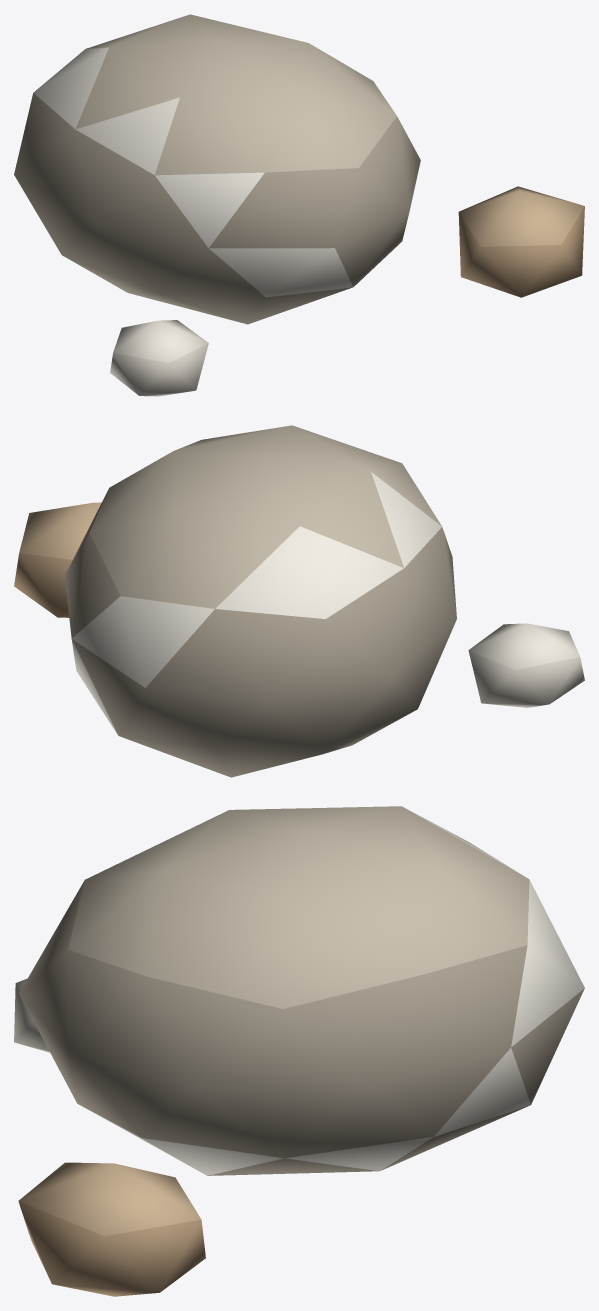
The model's file is river-rock.glb.
The picture shows the model from 3 angles, top to bottom: view 1: azimuth 30°, elevation 25°; view 2: azimuth 150°, elevation 25°; view 3: azimuth 270°, elevation 25°; orthographic projection. The views are drawn at different scales.
Parts seen in each view (by area): view 1: river-rock; view 2: river-rock; view 3: river-rock.
Part boxes in pixels (bbox=[...]): river-rock: bbox=[14, 14, 584, 396]; river-rock: bbox=[14, 425, 584, 777]; river-rock: bbox=[14, 806, 584, 1296].
Size of the model in its own units: 2 by 1 by 1.6.
